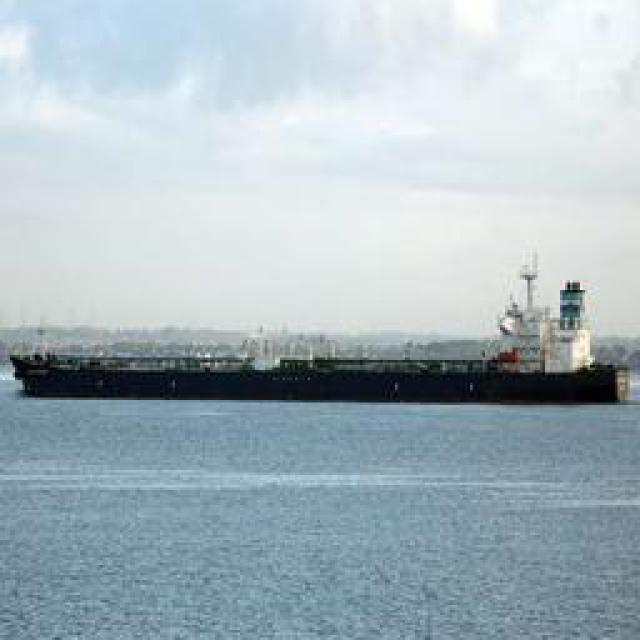Ship: (11, 342, 619, 405)
